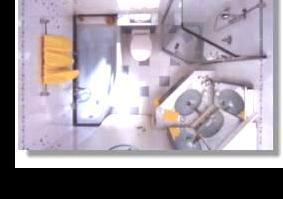Ducha: (163, 0, 271, 68)
